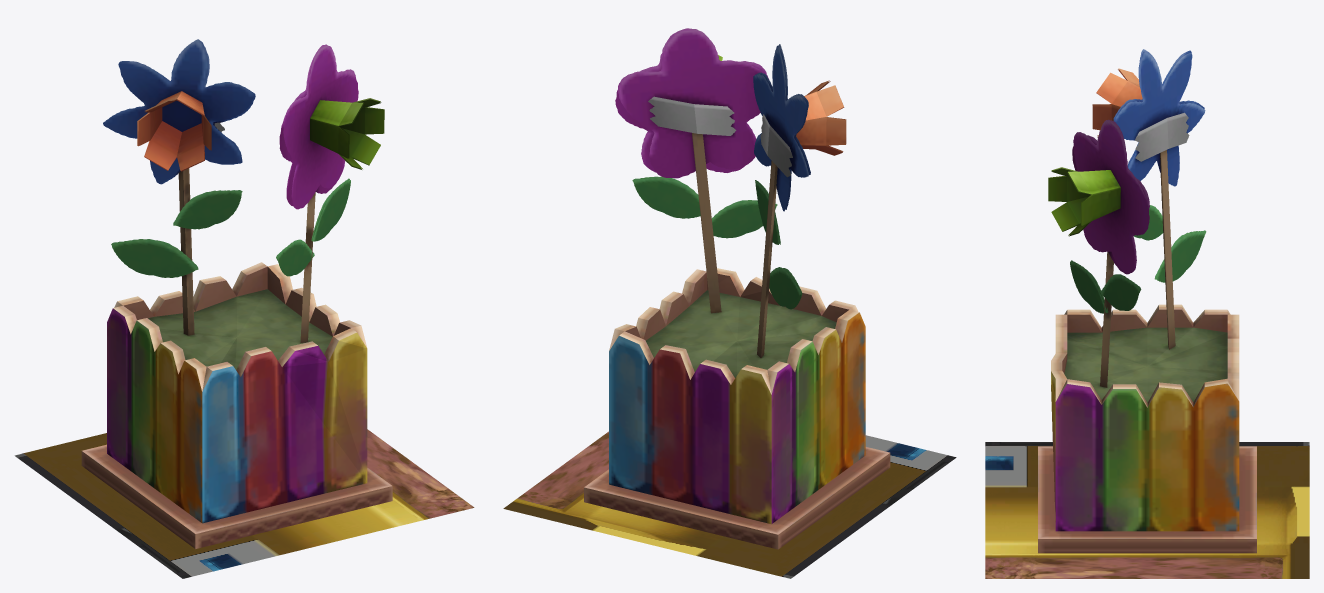
The model's file is Maceta.obj.
The picture shows the model from 3 angles, left to right: view 1: azimuth 30°, elevation 25°; view 2: azimuth 150°, elevation 25°; view 3: azimuth 270°, elevation 25°; orthographic projection. The views are drawn at different scales.
Parts seen in each view (by area): view 1: s4studio_mesh_1, s4studio_mesh_0; view 2: s4studio_mesh_1, s4studio_mesh_0; view 3: s4studio_mesh_1, s4studio_mesh_0.
Boxes of the visible parts, x1,y1,x2,y2 form: s4studio_mesh_1: [81, 39, 392, 548]; s4studio_mesh_0: [14, 429, 474, 578]; s4studio_mesh_1: [584, 28, 890, 549]; s4studio_mesh_0: [503, 431, 956, 578]; s4studio_mesh_1: [1038, 49, 1256, 553]; s4studio_mesh_0: [985, 442, 1309, 578].
Size of the model in its own units: 0.4658 by 0.7057 by 0.4658.
